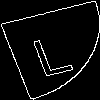L: (25, 25, 76, 78)
